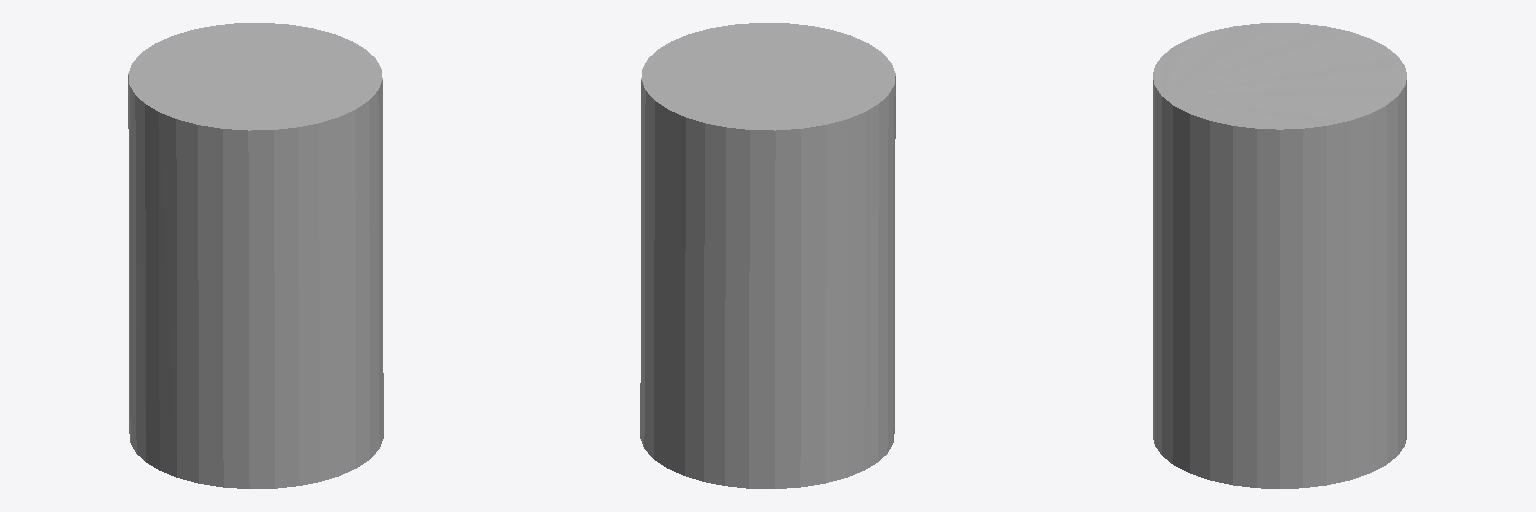
The picture shows the model from 3 angles: view 1: azimuth 30°, elevation 25°; view 2: azimuth 150°, elevation 25°; view 3: azimuth 270°, elevation 25°; orthographic projection.
Parts seen in each view (by area): view 1: NONE_DC_Shell001; view 2: NONE_DC_Shell001; view 3: NONE_DC_Shell001.
Part boxes in pixels (x1,y1,x2,y2): NONE_DC_Shell001: (128,23,383,488); NONE_DC_Shell001: (640,23,895,488); NONE_DC_Shell001: (1153,23,1406,488).
Bounding box in the file's own units: 45.22 × 70.14 × 45.